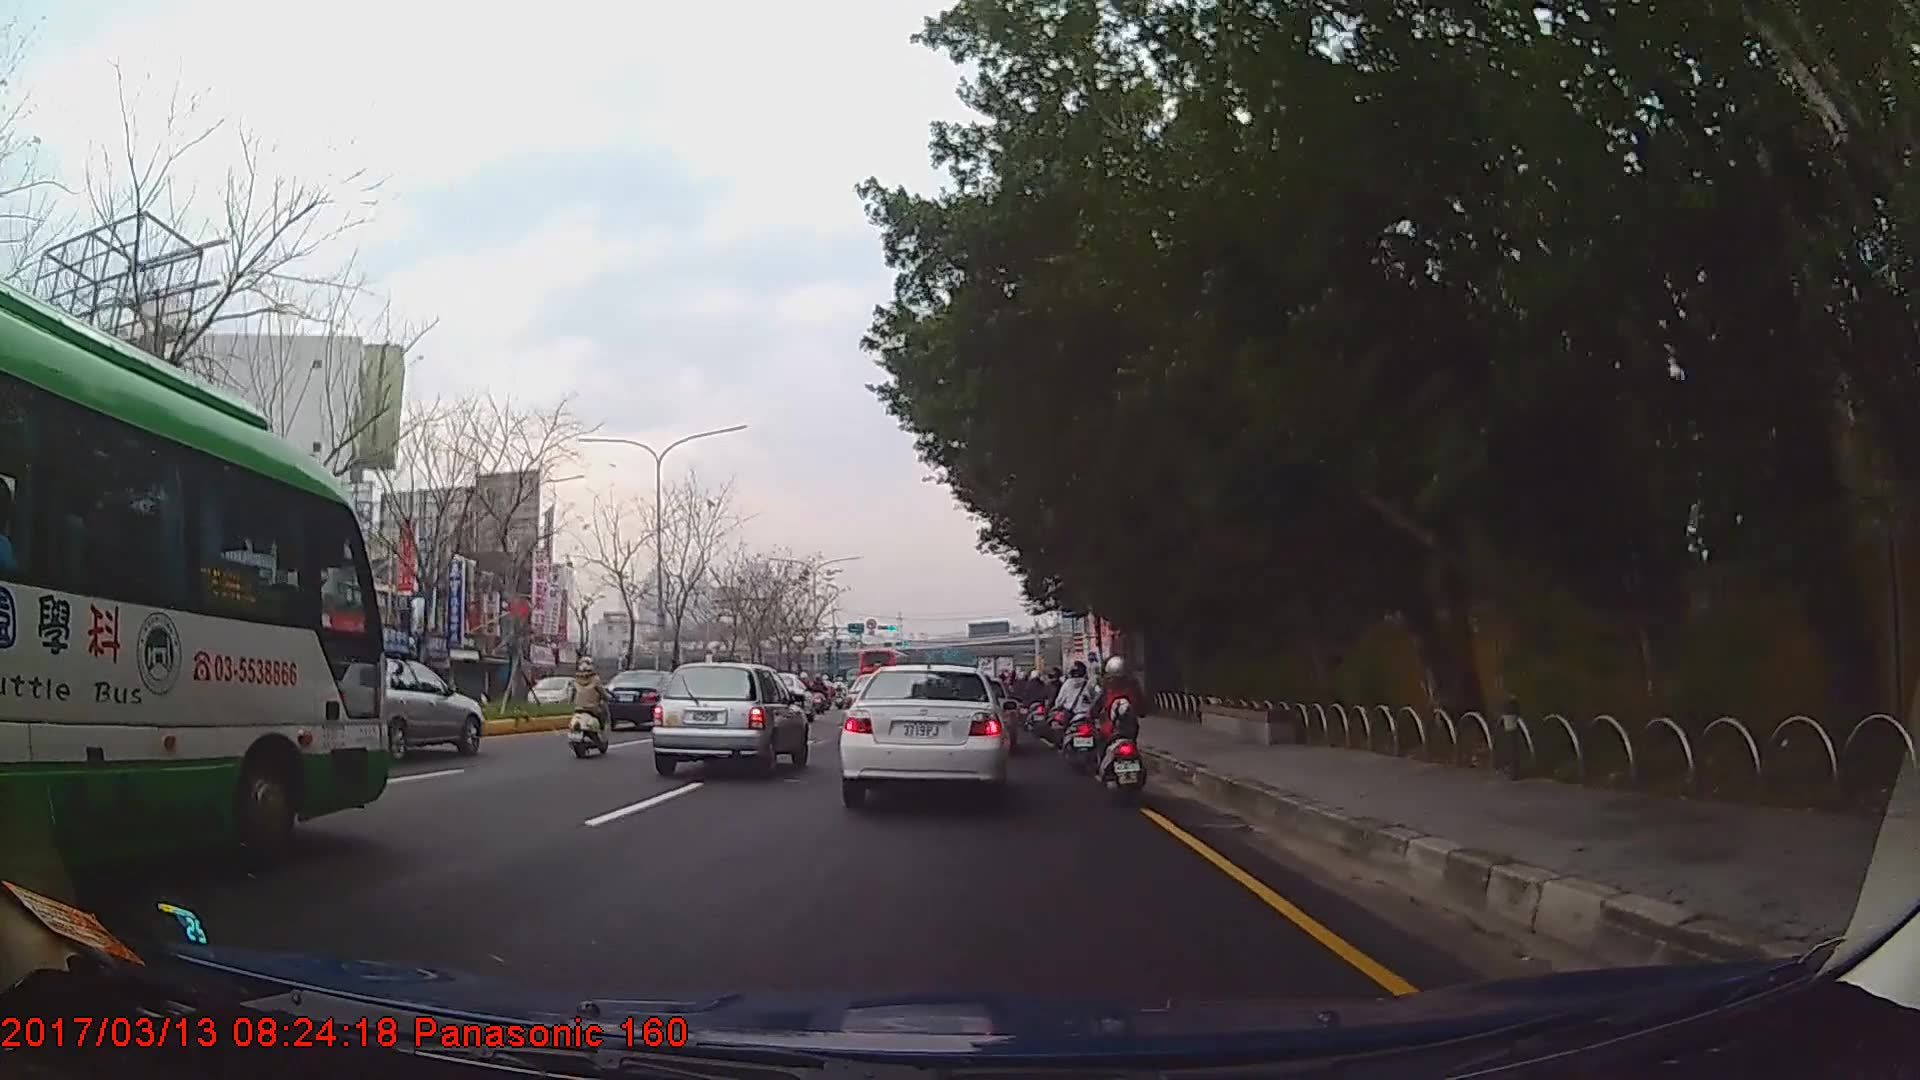rider: (1090, 656, 1152, 813), (1058, 661, 1103, 772), (571, 662, 614, 761), (1044, 668, 1069, 748)
vehicle: (0, 277, 393, 889), (834, 661, 1011, 809), (653, 661, 810, 778), (334, 656, 483, 758), (600, 666, 690, 730), (858, 647, 911, 695)
